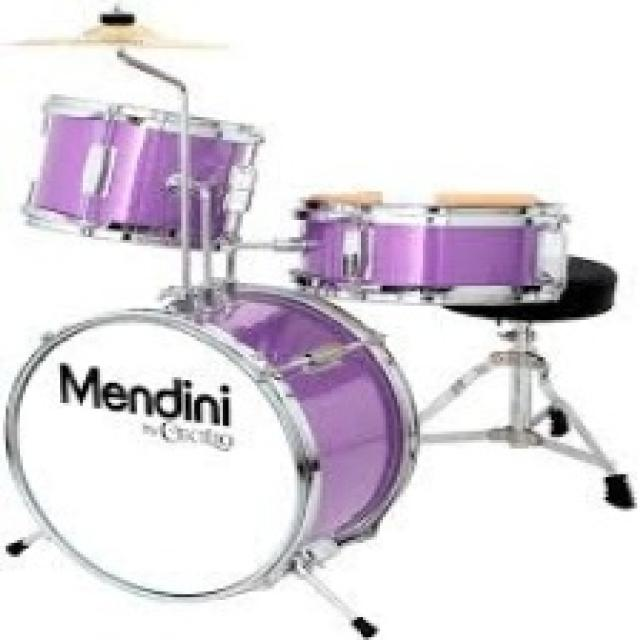drums: (2, 5, 615, 605)
